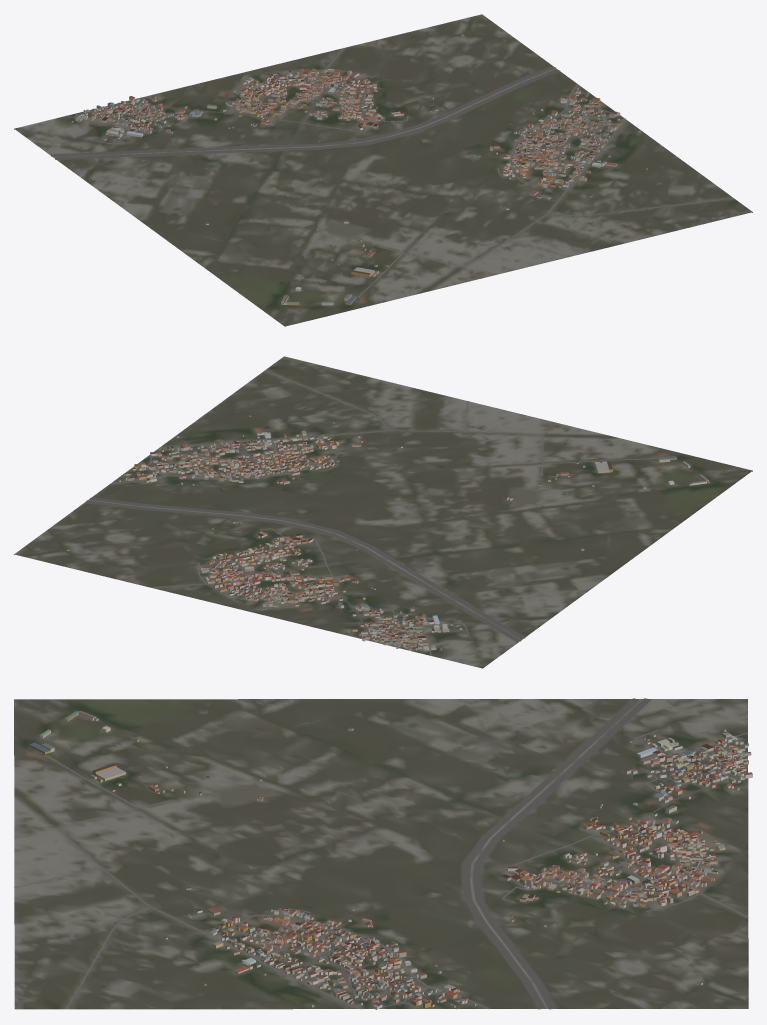
3 views of the same model, one above another, from view 1: azimuth 30°, elevation 25°; view 2: azimuth 150°, elevation 25°; view 3: azimuth 270°, elevation 25° (orthographic). The views are drawn at different scales.
Parts seen in each view (by area): view 1: ground, buildings, roads; view 2: ground, buildings, roads; view 3: ground, buildings, roads.
Part boxes in pixels (x1,y1,x2,y2): ground: [14, 14, 752, 326]; buildings: [71, 34, 647, 305]; roads: [50, 48, 733, 297]; ground: [14, 356, 752, 668]; buildings: [67, 415, 709, 651]; roads: [85, 370, 657, 655]; ground: [14, 699, 748, 1009]; buildings: [29, 710, 752, 1009]; roads: [14, 698, 748, 1009].
Bounding box in the file's own units: 1408 × 15.21 × 1411.
